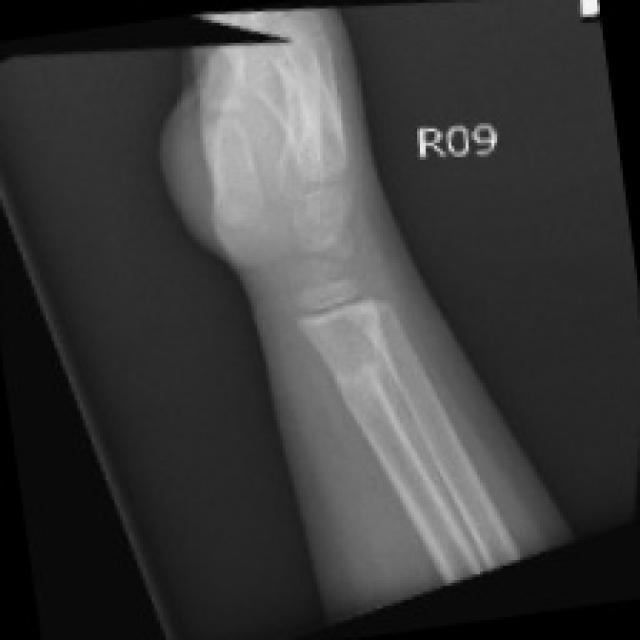fracture: (314, 342, 410, 420)
